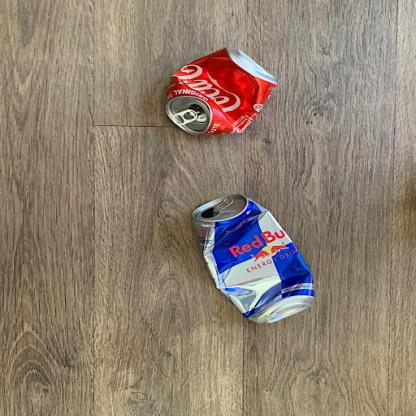trash: (189, 194, 320, 326), (158, 47, 276, 141)
